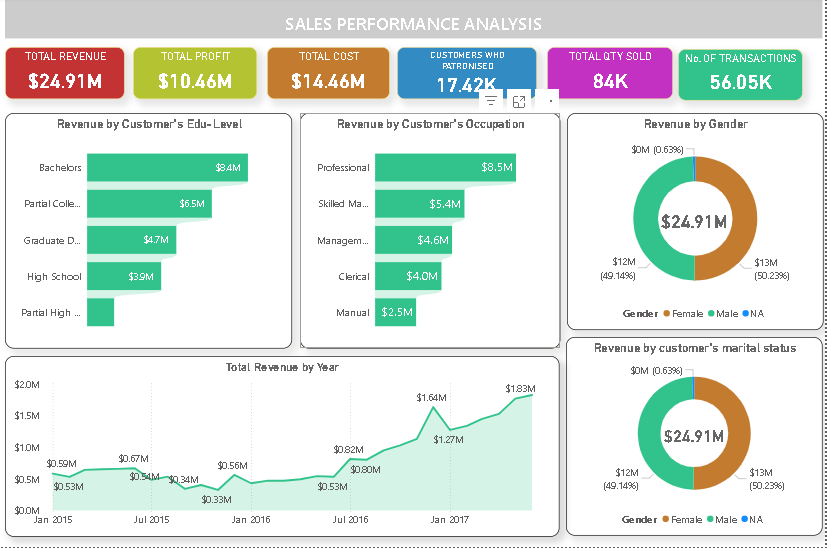

The page's visual inventory and layout, read from the dashboard file:
{"tool":"powerbi","page":{"name":"Page 1","canvas":[1300,864],"ordinal":0},"visuals":[{"type":"textbox","box":[10.6,0,1283.7,65.2],"z":0},{"type":"donutChart","title":"Revenue by Gender","fields":{"Category":["Customers.Gender"],"Y":["Sum(Sales 2015-2017.Revenue)"]},"box":[893.3,181.6,403.1,341.3],"z":0,"group":"g1"},{"type":"donutChart","title":"Revenue by customer''s marital status","fields":{"Category":["Customers.Gender"],"Y":["Sum(Sales 2015-2017.Revenue)"]},"box":[892.2,534.3,403.1,312.3],"z":0,"group":"g2"},{"type":"card","title":"TOTAL REVENUE","fields":{"Values":["Sum(Sales 2015-2017.Revenue)"]},"box":[10.7,78.7,187.7,82.2],"z":1000},{"type":"card","fields":{"Values":["Sum(Sales 2015-2017.Revenue)"]},"box":[1018.6,310.5,150.7,81.7],"z":1000,"group":"g1"},{"type":"card","fields":{"Values":["Sum(Sales 2015-2017.Revenue)"]},"box":[1017.5,648.7,150.7,81.7],"z":1000,"group":"g2"},{"type":"card","title":"TOTAL PROFIT","fields":{"Values":["Sum(Sales 2015-2017.Profit)"]},"box":[212.7,78.7,194.9,82.2],"z":2000},{"type":"card","title":"TOTAL COST","fields":{"Values":["Sum(Sales 2015-2017.Actual product cost)"]},"box":[421.9,78.7,193.1,82.2],"z":3000},{"type":"card","title":"CUSTOMERS WHO PATRONISED","fields":{"Values":["Count(Sales 2015-2017.Customer ID)"]},"box":[627.5,78.7,219.9,82.2],"z":4000},{"type":"card","title":"TOTAL QTY SOLD","fields":{"Values":["Sum(Sales 2015-2017.OrderQuantity)"]},"box":[861.7,78.7,198.4,82.2],"z":5000},{"type":"card","title":"No. OF TRANSACTIONS","fields":{"Values":["CountNonNull(Sales 2015-2017.Customer ID)"]},"box":[1068.5,81.1,195.7,81.1],"z":6000},{"type":"barChart","title":"Revenue by Customer''s Edu-Level","fields":{"Category":["Customers.EducationLevel"],"Y":["Sum(Sales 2015-2017.Revenue)"]},"box":[10.6,181.6,451.4,370.3],"z":7000},{"type":"barChart","title":"Revenue by Customer''s Occupation","fields":{"Category":["Customers.Occupation"],"Y":["Sum(Sales 2015-2017.Revenue)"]},"box":[474.3,181.6,409.1,370.3],"z":8000},{"type":"group","id":"g1","title":"Group 1","box":[893.3,181.6,403.1,341.3],"z":9000},{"type":"group","id":"g2","title":"Group 2","box":[892.2,534.3,402,312.1],"z":10000},{"type":"lineChart","title":"Total Revenue by Year","fields":{"Category":["Sales 2015-2017.OrderDate.Variation.Date Hierarchy.Year","Sales 2015-2017.OrderDate.Variation.Date Hierarchy.Quarter","Sales 2015-2017.OrderDate.Variation.Date Hierarchy.Month","Sales 2015-2017.OrderDate.Variation.Date Hierarchy.Day"],"Y":["Sum(Sales 2015-2017.Revenue)"]},"box":[10.6,564.2,871.1,283.9],"z":11000}]}

Visuals, with their boxes in screenshot pixels (x1, y1, x2, y2), scaled from the page's 1300x864 canvas onto the 827x548 screenshot:
textbox: [7, 0, 823, 41]
"Revenue by Gender" donutChart: [568, 115, 825, 332]
"Revenue by customer''s marital status" donutChart: [568, 339, 824, 537]
"TOTAL REVENUE" card: [7, 50, 126, 102]
card - Sum(Sales 2015-2017.Revenue): [648, 197, 744, 249]
card - Sum(Sales 2015-2017.Revenue): [647, 411, 743, 463]
"TOTAL PROFIT" card: [135, 50, 259, 102]
"TOTAL COST" card: [268, 50, 391, 102]
"CUSTOMERS WHO PATRONISED" card: [399, 50, 539, 102]
"TOTAL QTY SOLD" card: [548, 50, 674, 102]
"No. OF TRANSACTIONS" card: [680, 51, 804, 103]
"Revenue by Customer''s Edu-Level" barChart: [7, 115, 294, 350]
"Revenue by Customer''s Occupation" barChart: [302, 115, 562, 350]
"Group 1" group: [568, 115, 825, 332]
"Group 2" group: [568, 339, 823, 537]
"Total Revenue by Year" lineChart: [7, 358, 561, 538]
